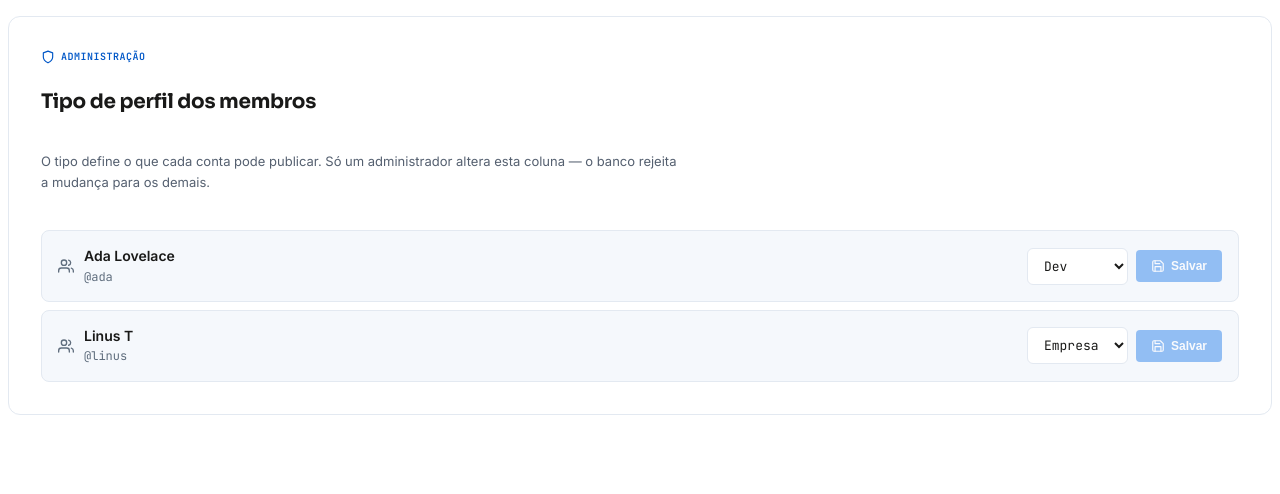
Test case: AdminProfileTypes › avisa com a causa real quando o update falha no banco
Select "Empresa" in the dropdown named "Ada Lovelace" at [1078, 266], box [1027,248,1128,285]
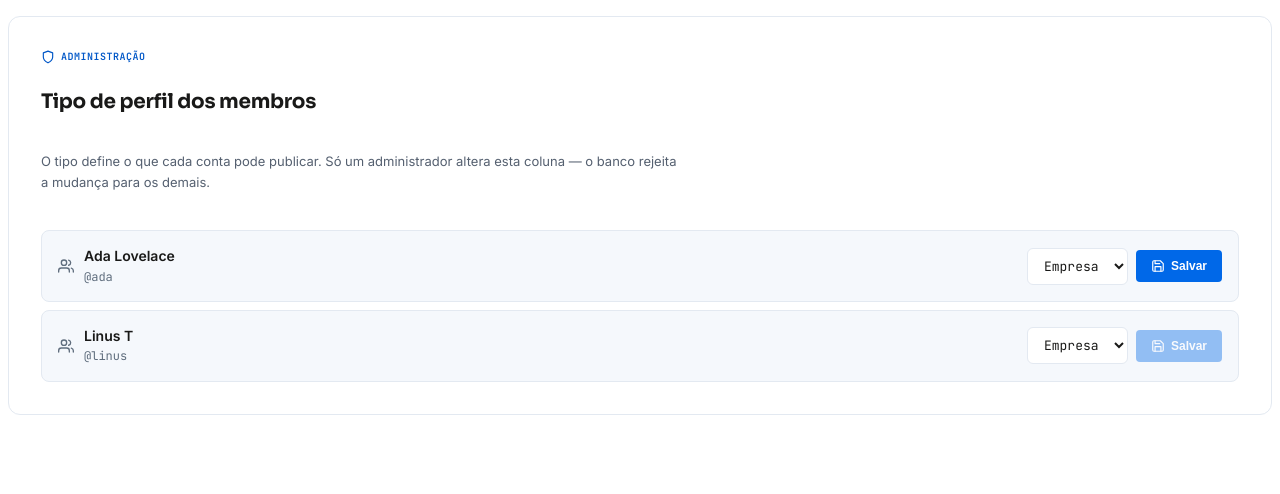
Click the button "Salvar" in the row of "Ada Lovelace".
click(1179, 266)  # box [1136,250,1222,282]
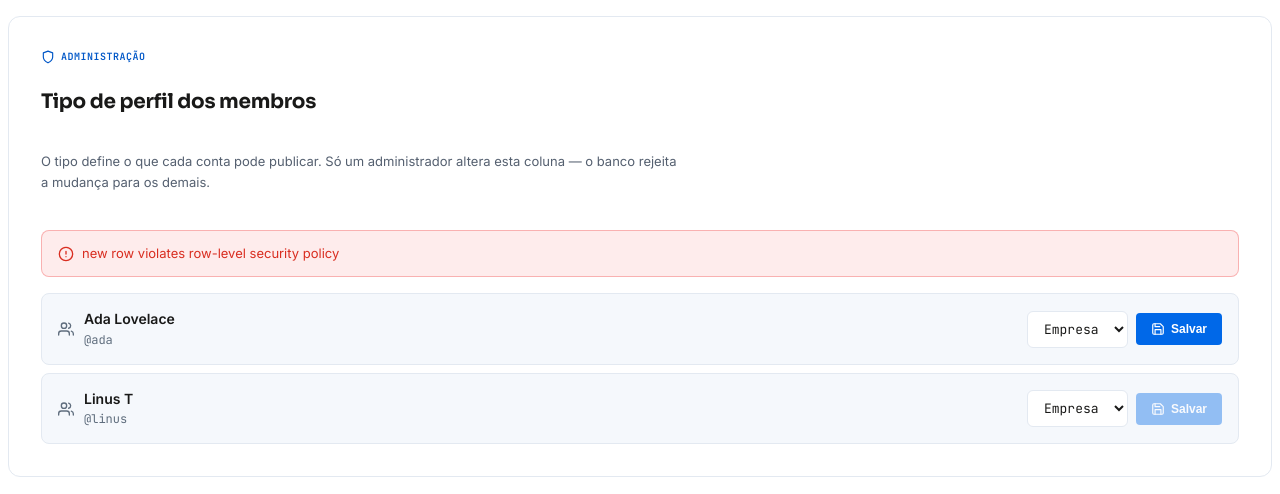
Now the text "new row violates row-level security policy" is shown, box [82,243,339,264]
